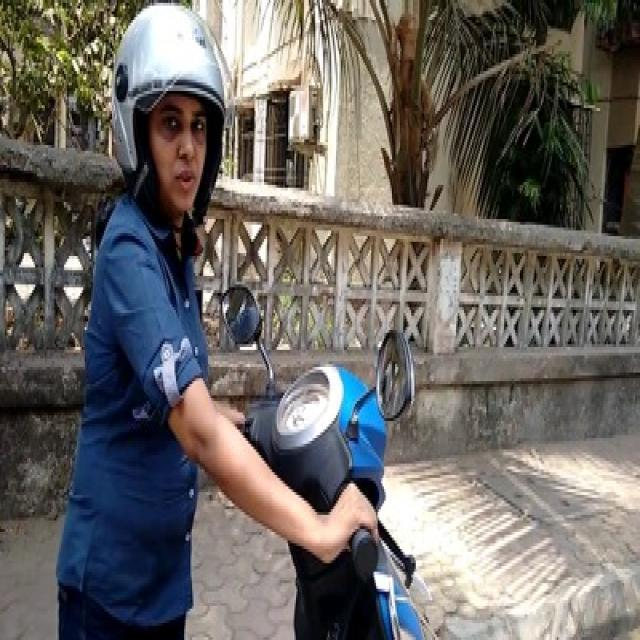Helmet: (83, 0, 244, 235)
